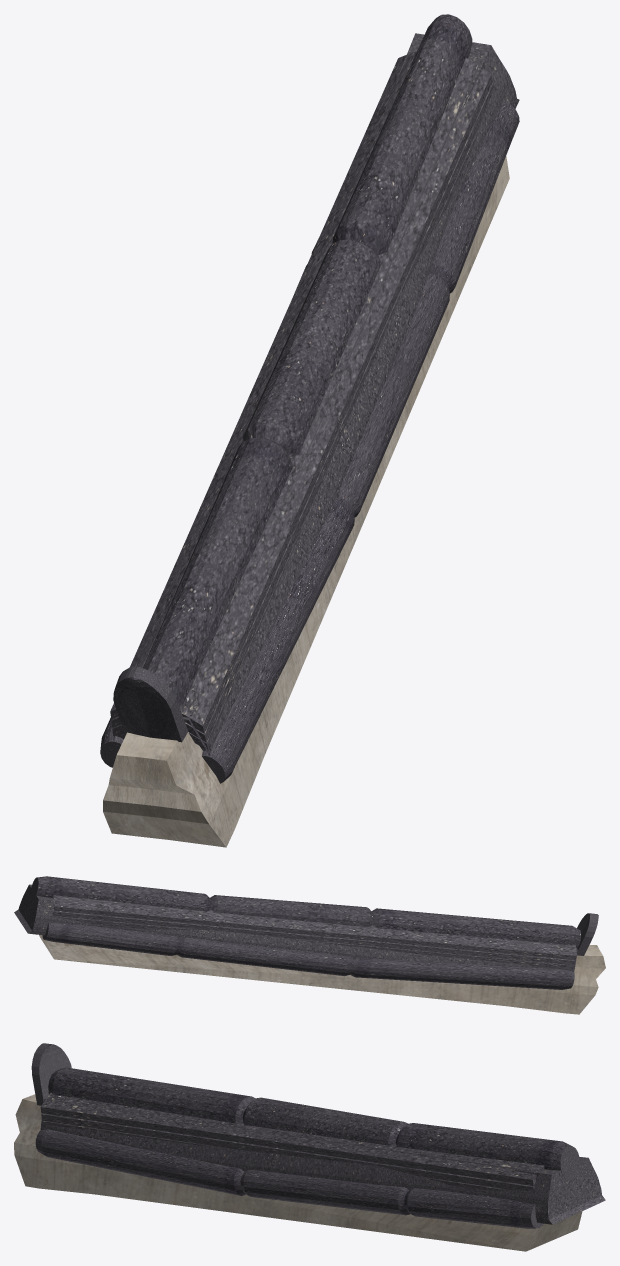
The model's file is SM_R_BeamRoof_19.fbx.
The picture shows the model from 3 angles, top to bottom: view 1: azimuth 30°, elevation 25°; view 2: azimuth 150°, elevation 25°; view 3: azimuth 270°, elevation 25°; orthographic projection. The views are drawn at different scales.
Parts seen in each view (by area): view 1: SM_R_BeamRoof_19; view 2: SM_R_BeamRoof_19; view 3: SM_R_BeamRoof_19.
Part boxes in pixels (x1=…): SM_R_BeamRoof_19: x1=100, y1=14, x2=519, y2=847; SM_R_BeamRoof_19: x1=14, y1=876, x2=605, y2=1014; SM_R_BeamRoof_19: x1=14, y1=1043, x2=605, y2=1251.
Size of the model in its own units: 305 by 300 by 136.
2 materials, 2 textured.
